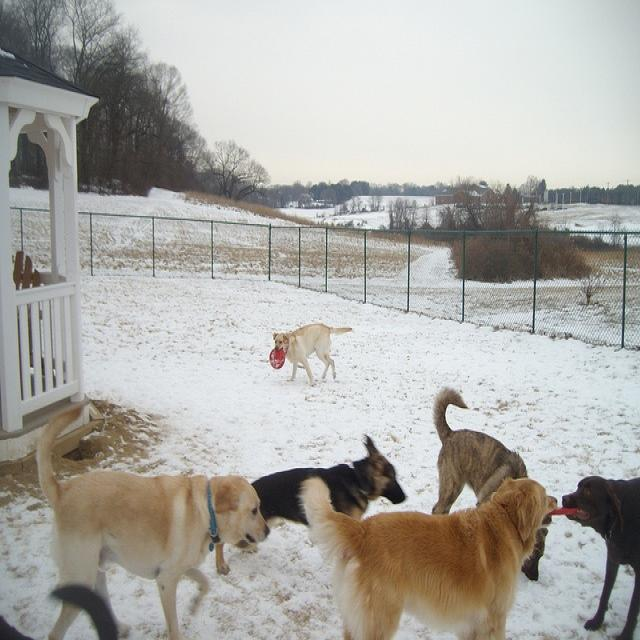dog: (34, 398, 270, 630), (303, 476, 557, 639), (430, 389, 552, 582), (253, 434, 405, 522), (559, 473, 639, 632), (271, 322, 348, 378)
